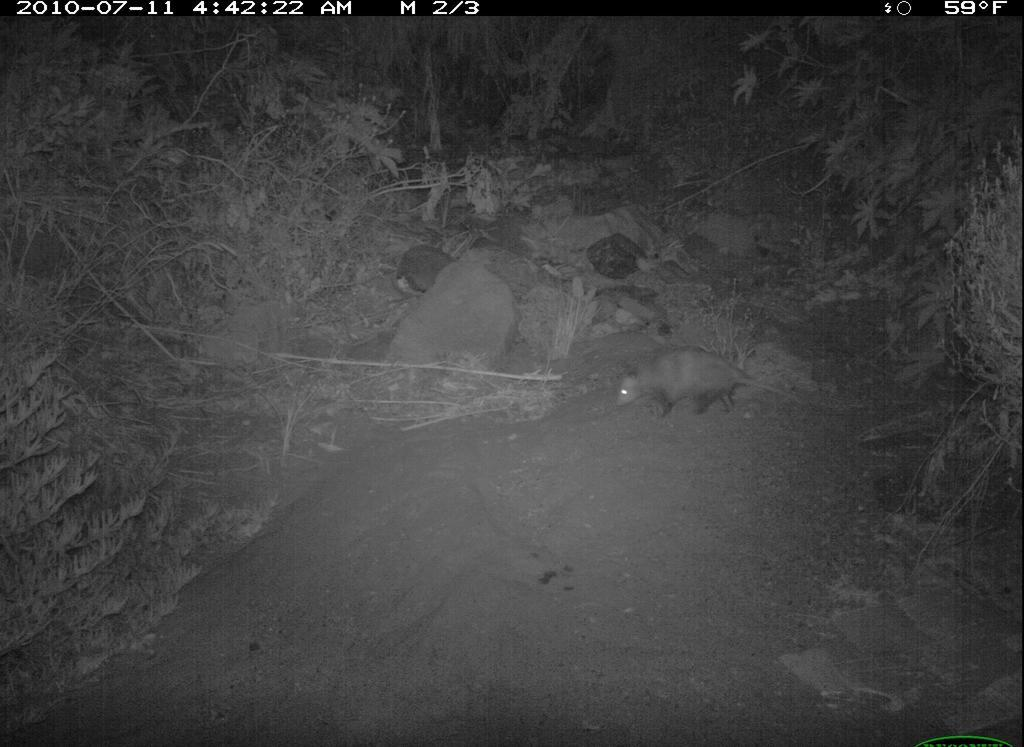opossum: (609, 341, 811, 436)
